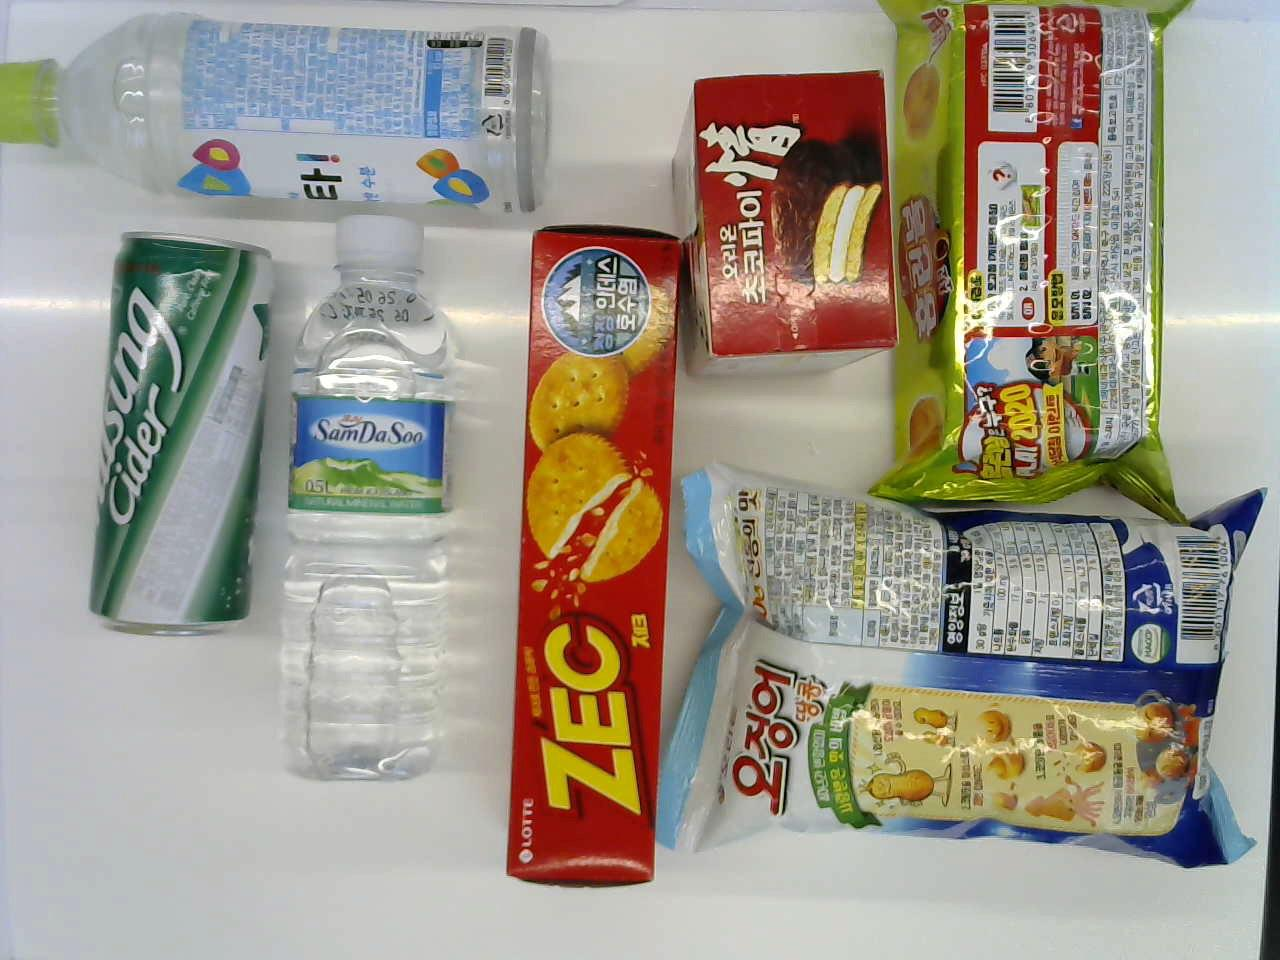chocopie: (668, 56, 904, 396)
cidar: (81, 233, 270, 654)
homerunball: (880, 0, 1181, 515)
samdasu: (280, 209, 463, 790)
squid_peanut: (681, 464, 1257, 871)
toreta: (0, 19, 549, 221)
zec: (487, 229, 675, 895)
